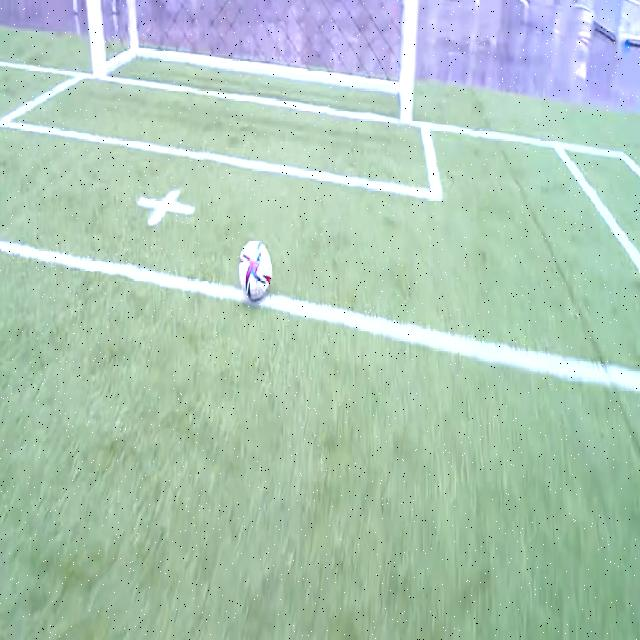ball: (239, 238, 272, 297)
